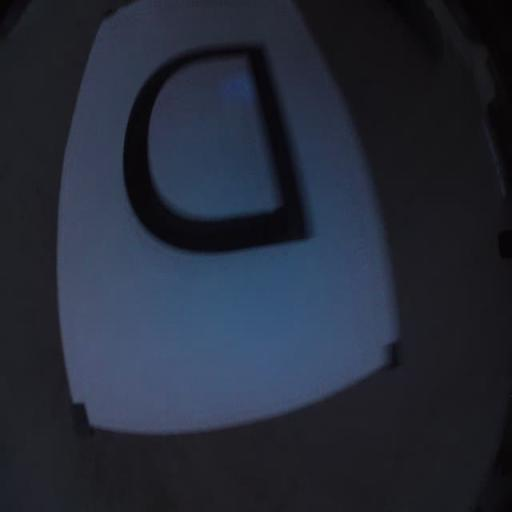D: (122, 38, 316, 257)
